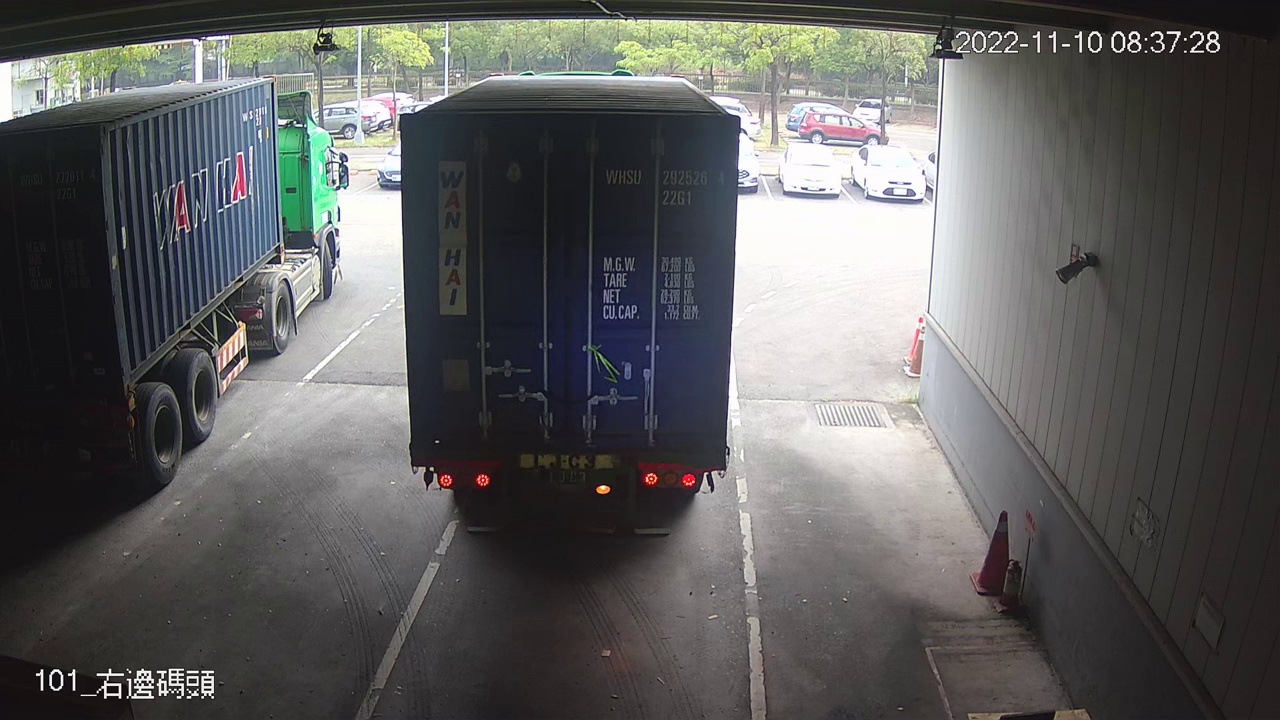container: (601, 162, 729, 210)
